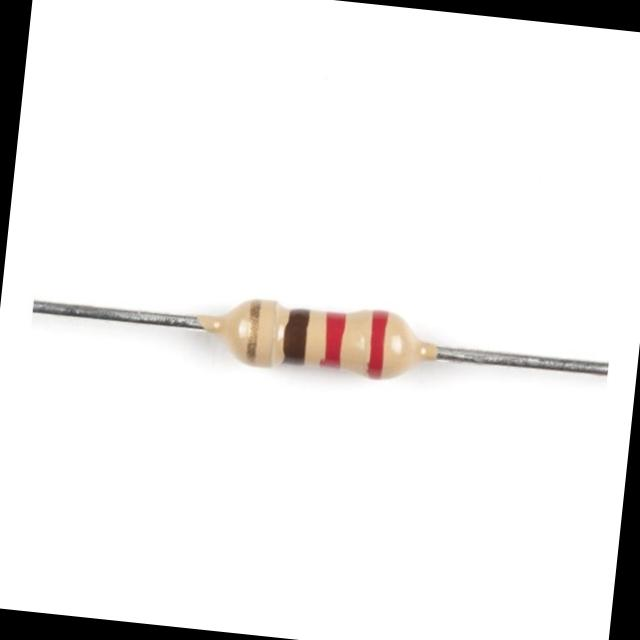Resistor: (222, 300, 418, 378)
brown: (281, 308, 310, 368)
gold: (246, 297, 260, 367)
red: (317, 312, 345, 374), (364, 307, 387, 380)
